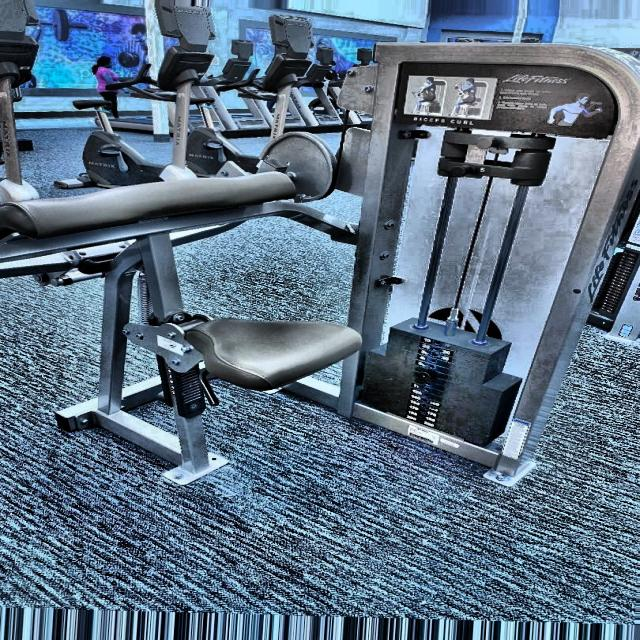bicep_curl_machine: (0, 43, 376, 496), (398, 64, 618, 143)
